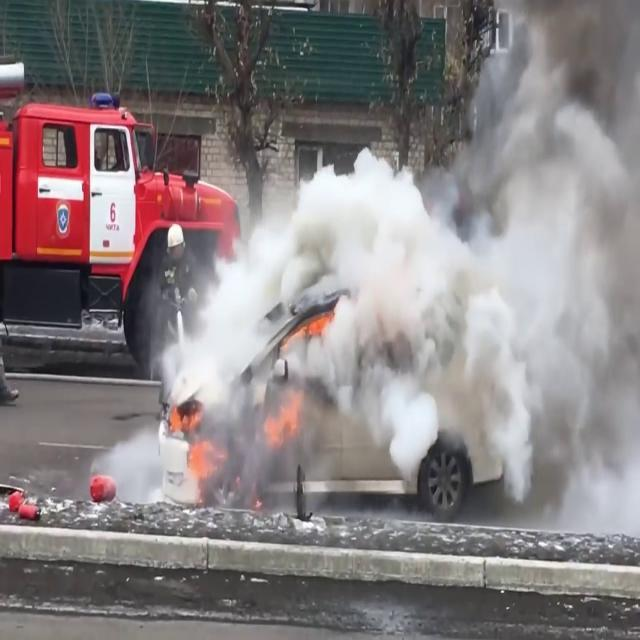Smoke: (158, 1, 640, 529)
